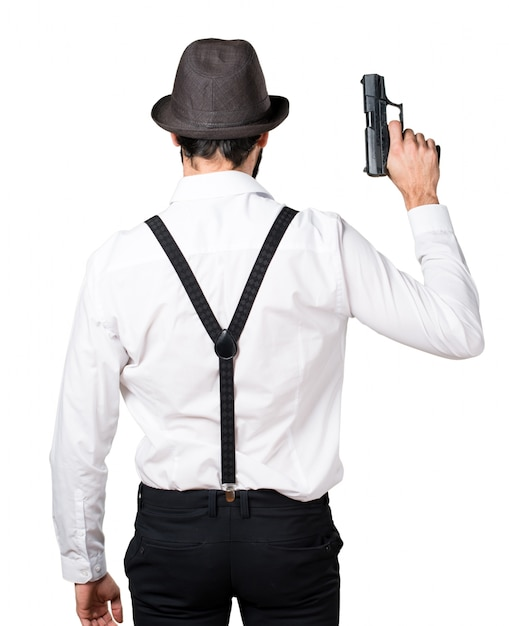gun: (361, 71, 446, 178)
